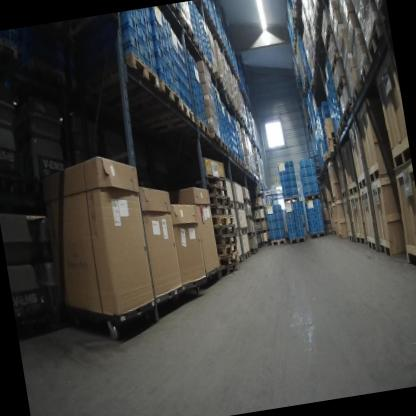pallet: (124, 49, 160, 94), (362, 17, 389, 65), (389, 135, 412, 169), (159, 77, 182, 111), (356, 62, 373, 92), (205, 171, 227, 191), (321, 24, 335, 54), (339, 100, 355, 126), (207, 182, 230, 200), (208, 193, 232, 210), (213, 221, 237, 238), (180, 97, 195, 124), (366, 159, 382, 184), (404, 241, 416, 273), (378, 235, 393, 260), (210, 203, 233, 219), (328, 50, 342, 76), (181, 16, 195, 42), (211, 212, 235, 227), (348, 84, 363, 108), (216, 241, 239, 256), (214, 232, 238, 246), (218, 252, 241, 266), (334, 77, 348, 100), (313, 12, 325, 36), (376, 0, 389, 22), (196, 115, 209, 136), (219, 263, 237, 278), (208, 127, 221, 147), (194, 37, 205, 60), (168, 2, 182, 20), (204, 53, 215, 75), (356, 170, 368, 190), (346, 181, 359, 197), (366, 234, 377, 252), (354, 230, 367, 245), (215, 71, 225, 88), (313, 0, 324, 15), (288, 235, 306, 244), (304, 192, 320, 202), (325, 129, 336, 143), (282, 195, 299, 204), (336, 119, 345, 136), (270, 237, 286, 246), (209, 14, 217, 32), (309, 231, 326, 239), (215, 25, 223, 42), (333, 128, 342, 143), (326, 137, 336, 150), (235, 199, 245, 211), (327, 144, 337, 156), (226, 148, 235, 161), (220, 139, 228, 153), (233, 254, 243, 265), (223, 85, 230, 100), (243, 249, 251, 260), (243, 196, 251, 207), (340, 186, 347, 198), (308, 79, 314, 93), (234, 154, 241, 166), (223, 41, 229, 55), (240, 225, 248, 235), (322, 151, 330, 161), (291, 41, 297, 54), (250, 246, 259, 254), (348, 232, 355, 242), (229, 199, 235, 210), (245, 214, 253, 222), (247, 230, 256, 237), (302, 73, 307, 85), (292, 32, 297, 43), (338, 229, 343, 239), (322, 120, 327, 130), (240, 159, 245, 168), (324, 127, 328, 136), (331, 228, 336, 235), (332, 194, 336, 202), (321, 162, 325, 170), (313, 123, 317, 131), (327, 199, 332, 205), (312, 129, 315, 136), (319, 166, 322, 172)
small_load_carrier: (120, 29, 145, 61), (120, 12, 144, 44), (137, 23, 155, 55), (142, 47, 159, 77), (145, 7, 164, 33), (139, 12, 154, 42), (153, 43, 170, 69), (120, 9, 143, 28), (154, 58, 171, 83), (152, 25, 163, 49), (139, 8, 152, 19), (298, 157, 309, 168), (300, 165, 309, 178), (268, 230, 279, 240), (277, 171, 287, 182), (307, 225, 319, 234), (272, 202, 282, 212), (267, 221, 277, 231), (266, 212, 276, 222), (264, 203, 274, 213), (281, 187, 291, 197), (303, 185, 313, 195), (290, 199, 300, 209), (274, 210, 283, 221), (286, 170, 295, 181), (295, 229, 306, 238), (276, 162, 285, 172), (307, 166, 317, 175), (301, 177, 310, 187), (303, 195, 312, 205), (311, 182, 318, 194), (308, 174, 317, 183), (316, 223, 325, 232), (306, 211, 315, 220), (292, 208, 301, 217), (288, 230, 297, 239), (287, 222, 296, 231), (276, 220, 284, 230), (277, 229, 285, 239), (295, 222, 305, 230), (283, 210, 293, 218), (284, 217, 295, 224), (287, 180, 296, 188), (290, 187, 298, 196), (306, 156, 314, 165), (294, 216, 303, 224), (285, 159, 293, 167), (313, 203, 321, 211), (315, 216, 323, 224), (305, 204, 313, 212), (307, 219, 316, 226), (281, 181, 289, 188), (312, 196, 320, 203), (314, 210, 322, 217), (286, 166, 294, 171)
